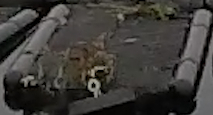bag: (2, 4, 211, 105)
